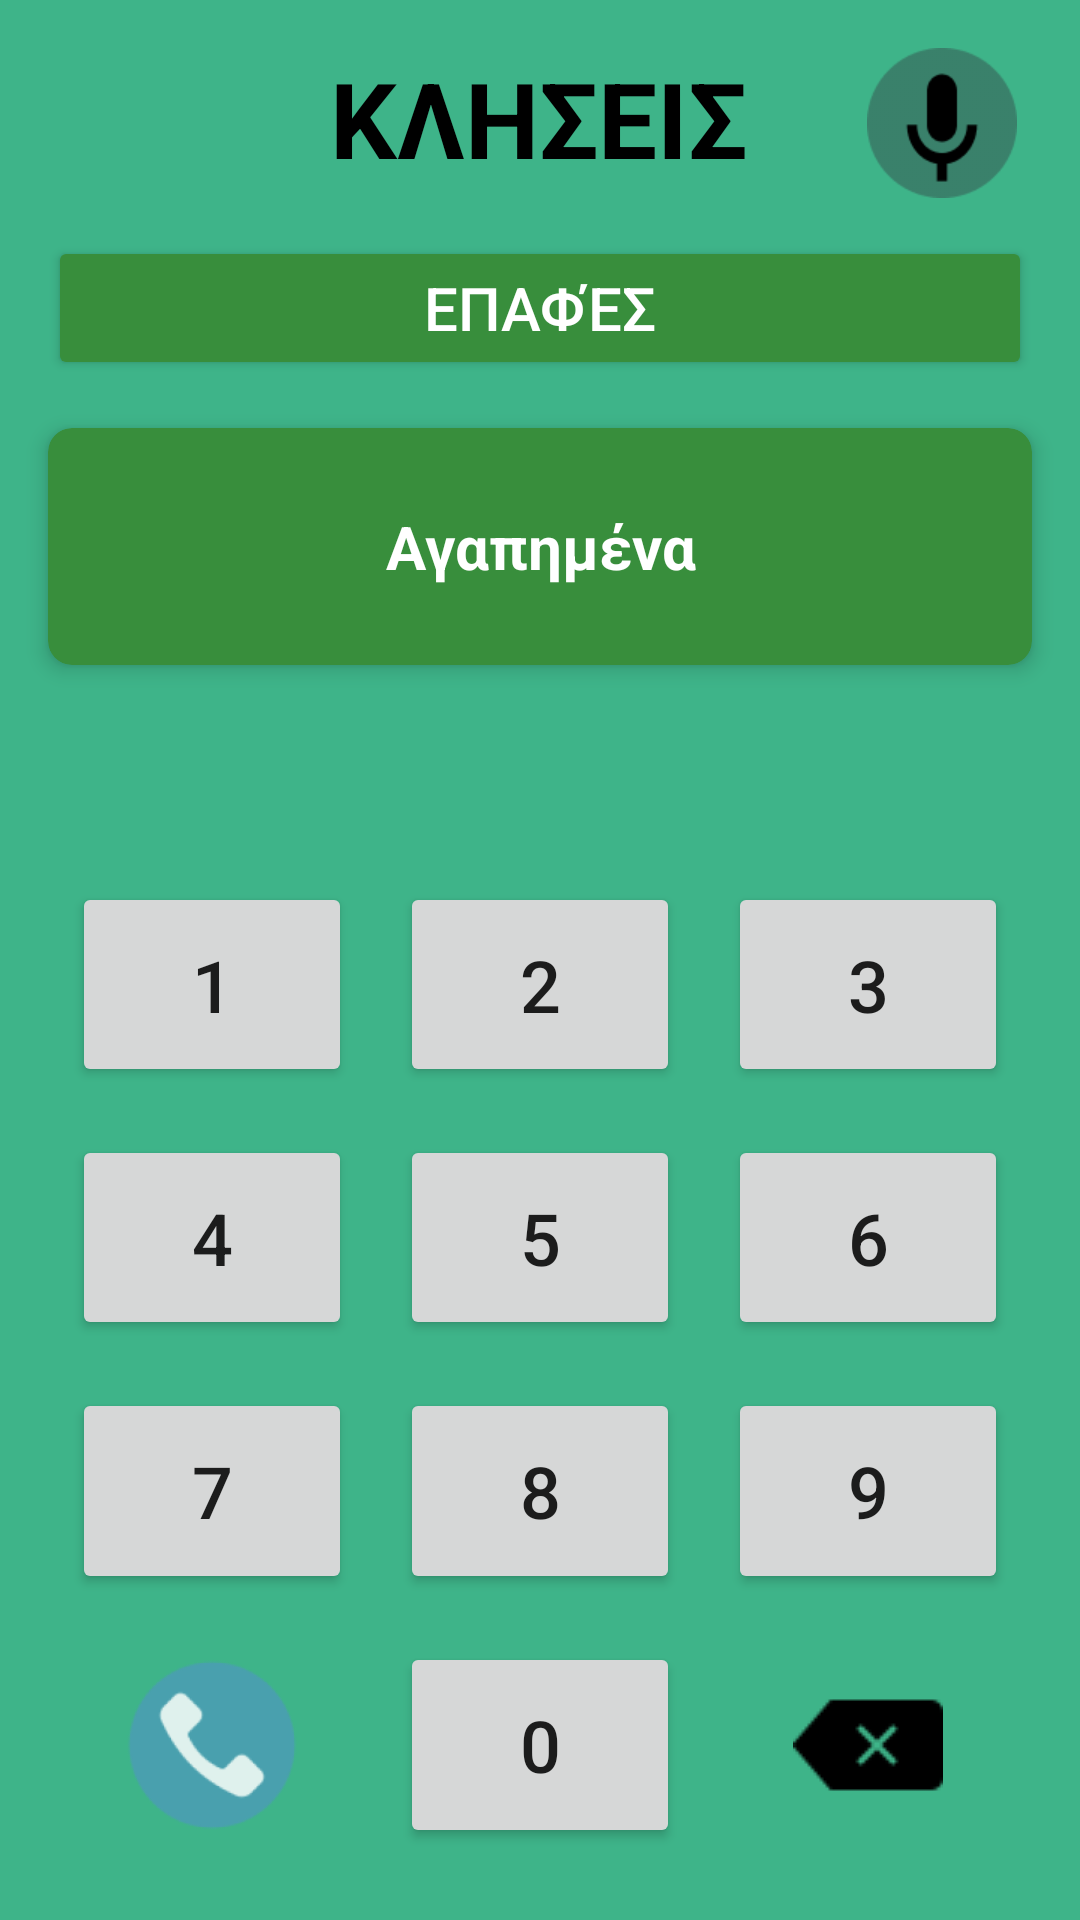

Screen size 1080 × 1920. Icon name, then its center in pixels as [x,y]:
διαγραφη: [868,1745]
κληση: [212,1745]
Μικρόφωνο: [942,123]
